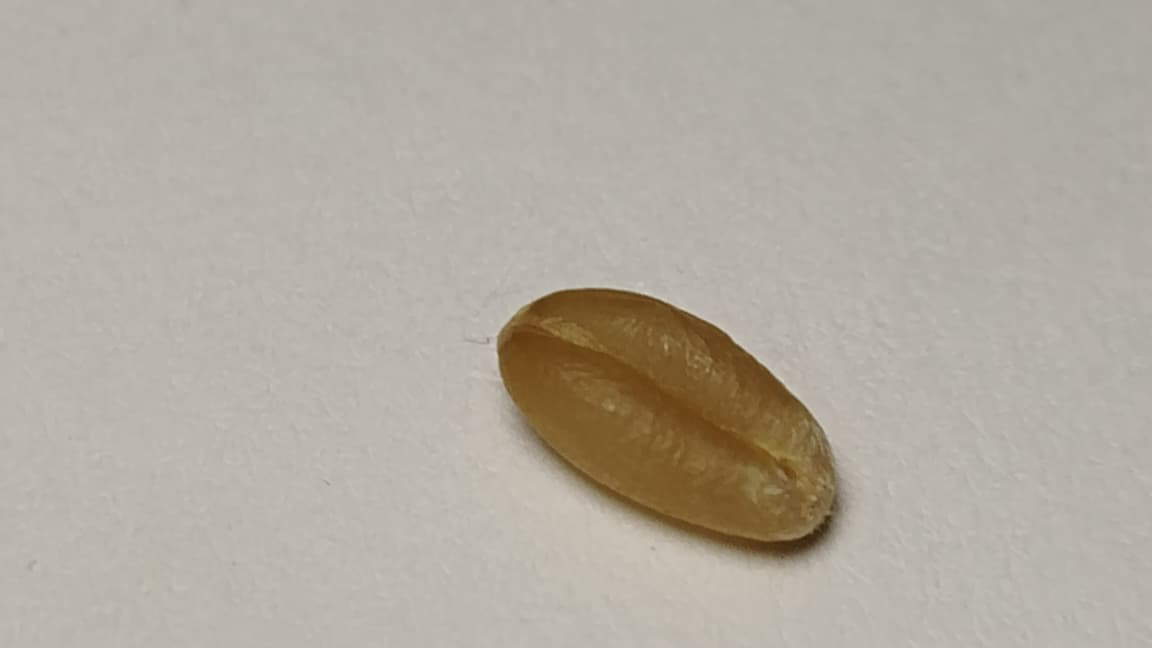healthy: (495, 287, 839, 546)
